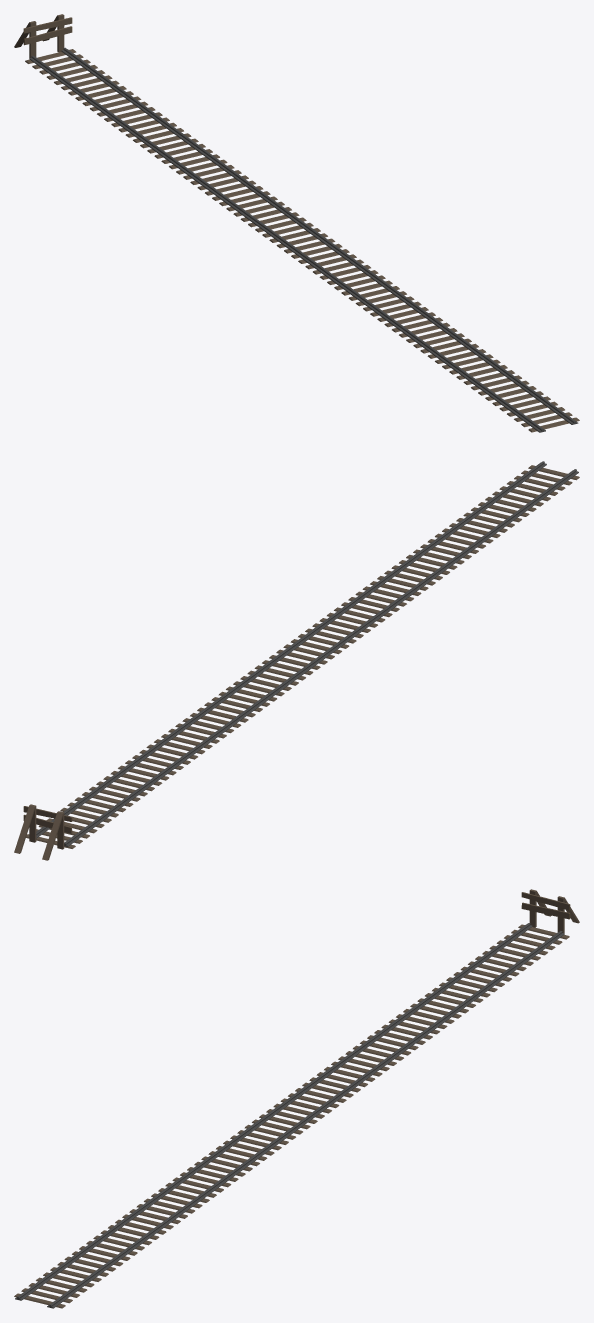
File: minecart-track.glb
The picture shows the model from 3 angles, top to bottom: view 1: azimuth 30°, elevation 25°; view 2: azimuth 150°, elevation 25°; view 3: azimuth 330°, elevation 25°; orthographic projection.
Visible parts, largest first — view 1: Wood, MetalRail, Blocker-col; view 2: Wood, MetalRail, Blocker-col; view 3: Wood, MetalRail, Blocker-col.
Part boxes in pixels (left/top/right/bottom): Wood: left=25, top=49, right=579, bottom=432; MetalRail: left=29, top=47, right=578, bottom=432; Blocker-col: left=14, top=14, right=64, bottom=57; Wood: left=26, top=465, right=579, bottom=848; MetalRail: left=36, top=461, right=578, bottom=846; Blocker-col: left=14, top=804, right=64, bottom=860; Wood: left=14, top=924, right=569, bottom=1308; MetalRail: left=15, top=923, right=564, bottom=1308; Blocker-col: left=529, top=889, right=579, bottom=933.
Size of the model in its own units: 2.83 by 2 by 53.24.
Materials: 1 (1 with a texture image).
